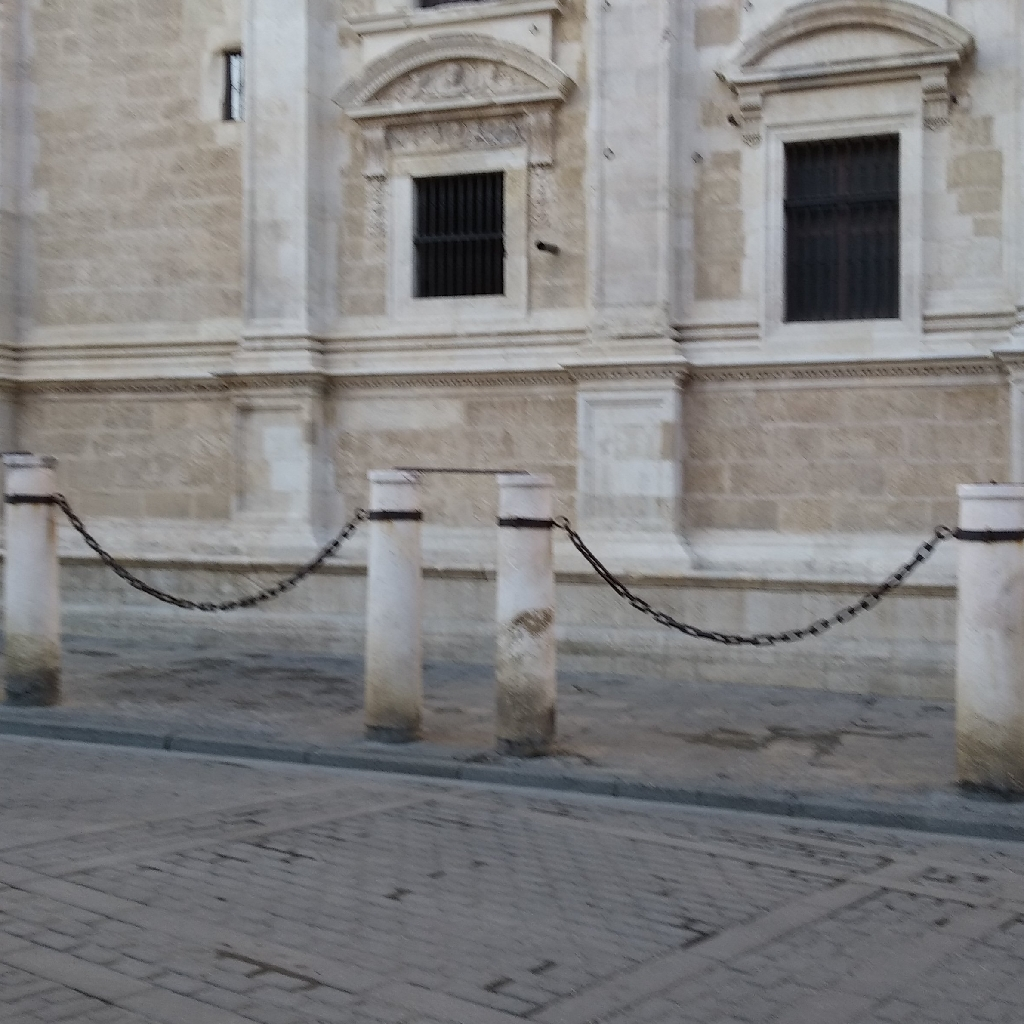fronton-curvo: (716, 1, 973, 104), (333, 29, 582, 133)
vano-adintelado: (757, 103, 929, 348), (378, 142, 531, 324)
